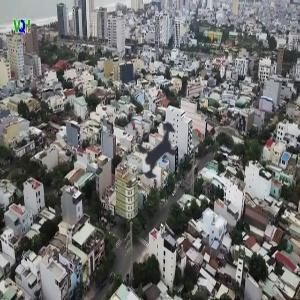drone: (104, 101, 209, 206)
